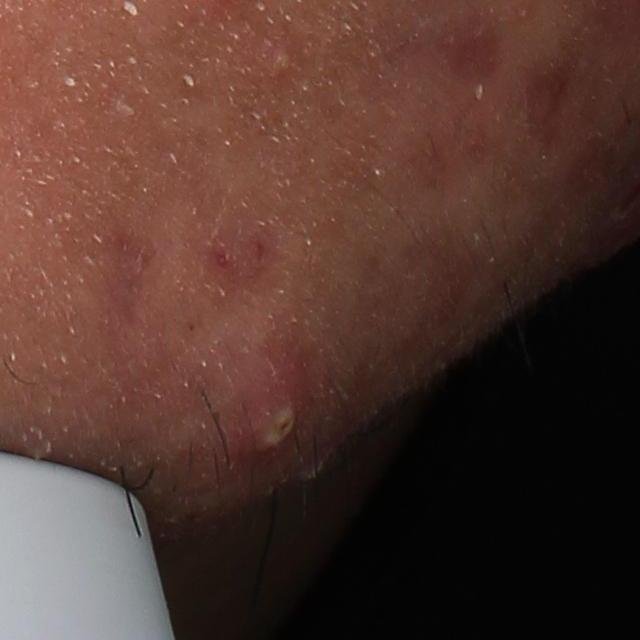other: (61, 73, 80, 88)
pustule: (242, 354, 322, 463), (268, 40, 297, 82)
